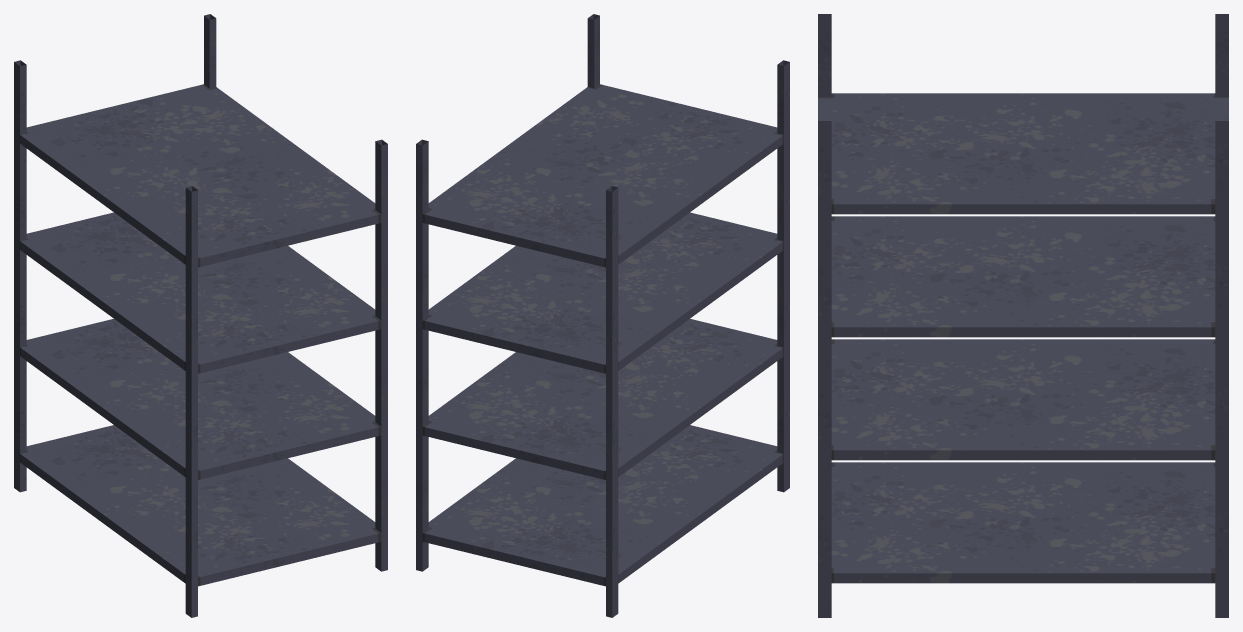
Rendered from shelves.obj.
3 renders of one model, left to right at view 1: azimuth 30°, elevation 25°; view 2: azimuth 150°, elevation 25°; view 3: azimuth 270°, elevation 25°, orthographic. The views are drawn at different scales.
Parts seen in each view (by area): view 1: Cube.036_Cube.060; view 2: Cube.036_Cube.060; view 3: Cube.036_Cube.060.
Boxes of the visible parts, <box> form: Cube.036_Cube.060: <box>14,14,387,617</box>; Cube.036_Cube.060: <box>416,14,789,617</box>; Cube.036_Cube.060: <box>818,14,1228,617</box>.
Size of the model in its own units: 3.64 by 7.55 by 5.7.
1 material, 1 textured.
